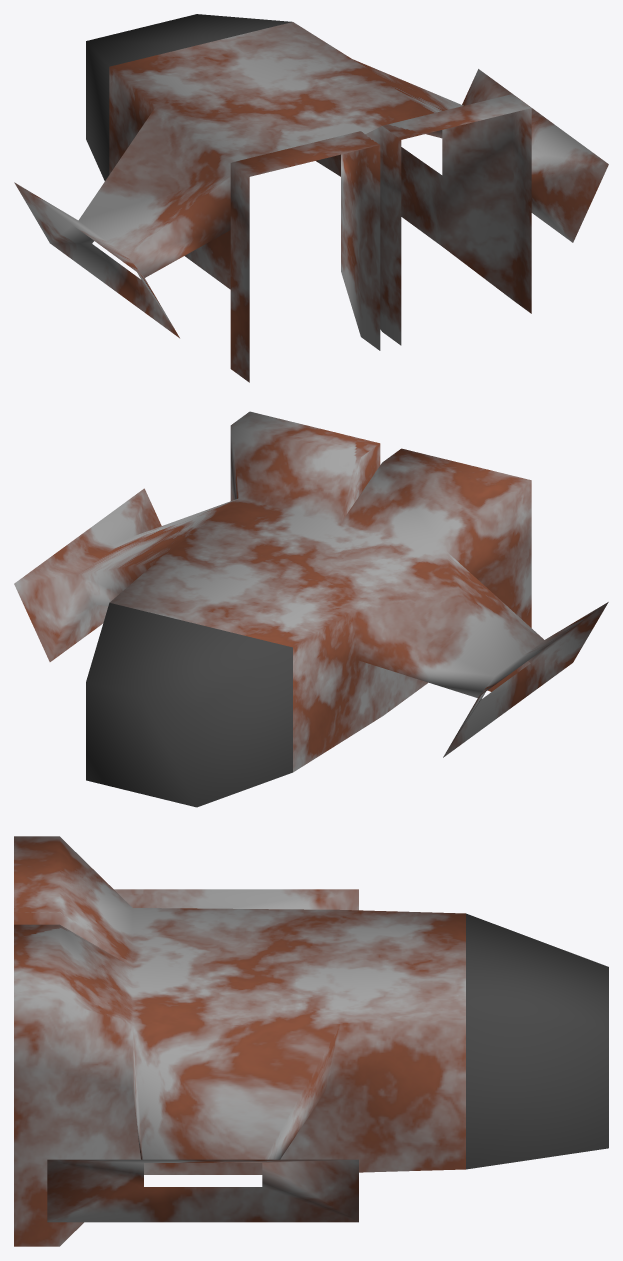
Rendered from PirateThree.fbx.
The picture shows the model from 3 angles, top to bottom: view 1: azimuth 30°, elevation 25°; view 2: azimuth 150°, elevation 25°; view 3: azimuth 270°, elevation 25°; orthographic projection. The views are drawn at different scales.
Parts seen in each view (by area): view 1: pirate_3; view 2: pirate_3; view 3: pirate_3.
Part boxes in pixels (x1,y1,x2,y2): pirate_3: (14, 14, 608, 382); pirate_3: (14, 411, 608, 807); pirate_3: (14, 836, 608, 1246).
Size of the model in its own units: 7778 by 7234 by 3297.
